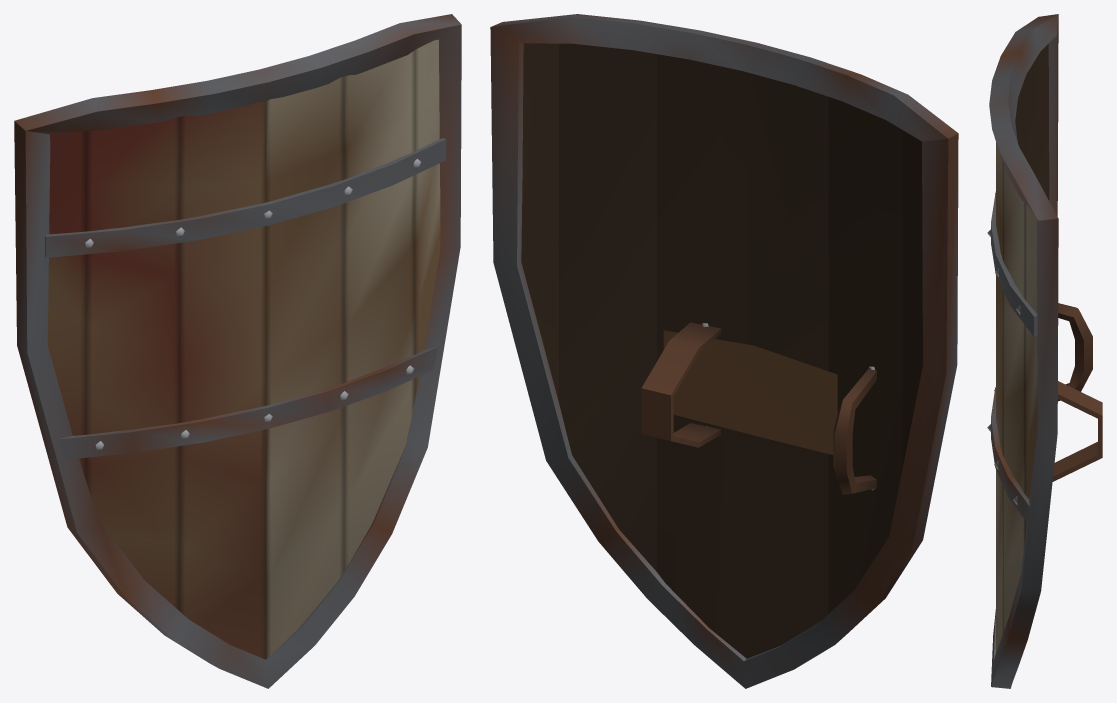
Rendered from shield_iron.glb.
3 views of the same model, side by side, from view 1: azimuth 30°, elevation 25°; view 2: azimuth 150°, elevation 25°; view 3: azimuth 270°, elevation 25° (orthographic). The views are drawn at different scales.
Parts seen in each view (by area): view 1: shield_iron; view 2: shield_iron; view 3: shield_iron.
Part boxes in pixels (x1,y1,x2,y2): shield_iron: [14, 14, 461, 688]; shield_iron: [490, 14, 958, 688]; shield_iron: [987, 14, 1102, 688].
Bounding box in the file's own units: 0.5861 × 0.7867 × 0.1399.
